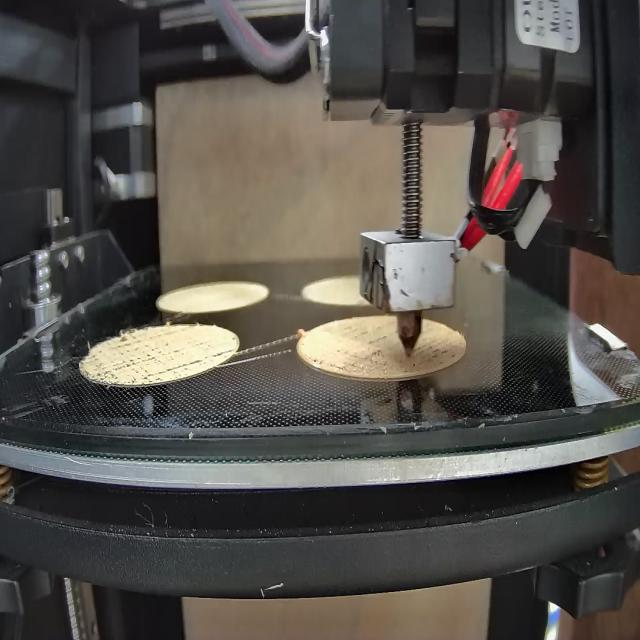under_extrusion: (87, 333, 203, 378), (336, 320, 391, 372), (411, 332, 458, 370), (299, 351, 327, 370), (213, 344, 232, 358)
